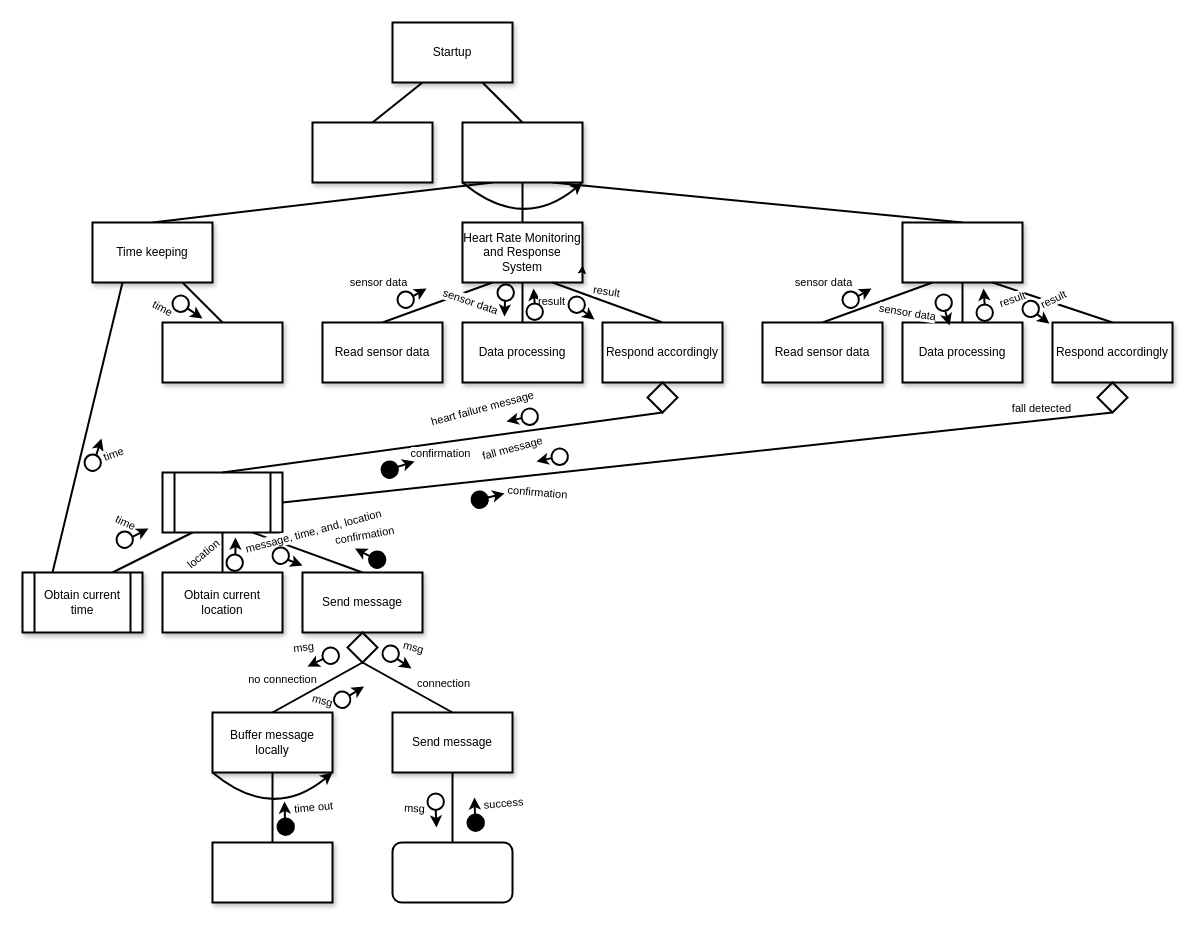
The diagram is 1196 pixels wide and 927 high, and some of its shapes have lost their labels. The shapes that lost their labels are listed below. From the top down, each one's centre as x and y in pixels, then its label:
the point at 373,153: Initialization of components
the point at 523,153: Monitor
the point at 963,253: Fall Detection System
the point at 223,353: Display time
the point at 222,502: Notify third parties
the point at 273,873: Wait for connection
the point at 452,872: Insert into remote database
